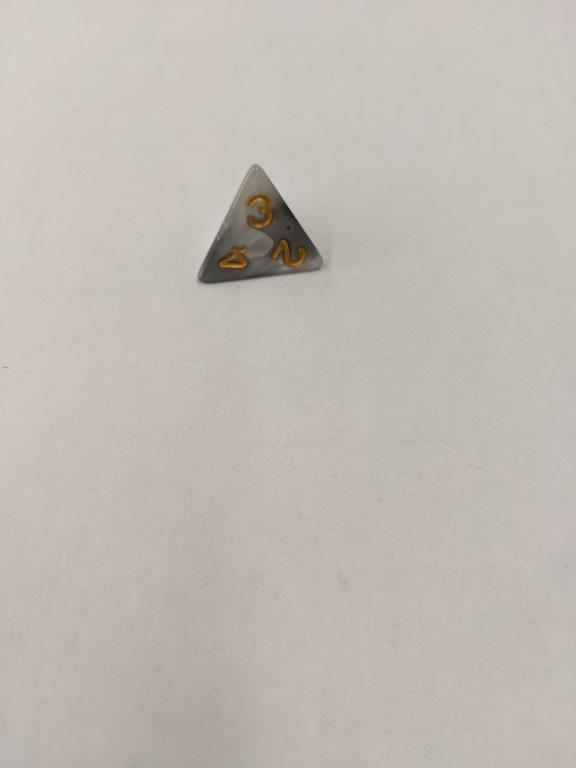d4-3: (196, 164, 327, 286)
